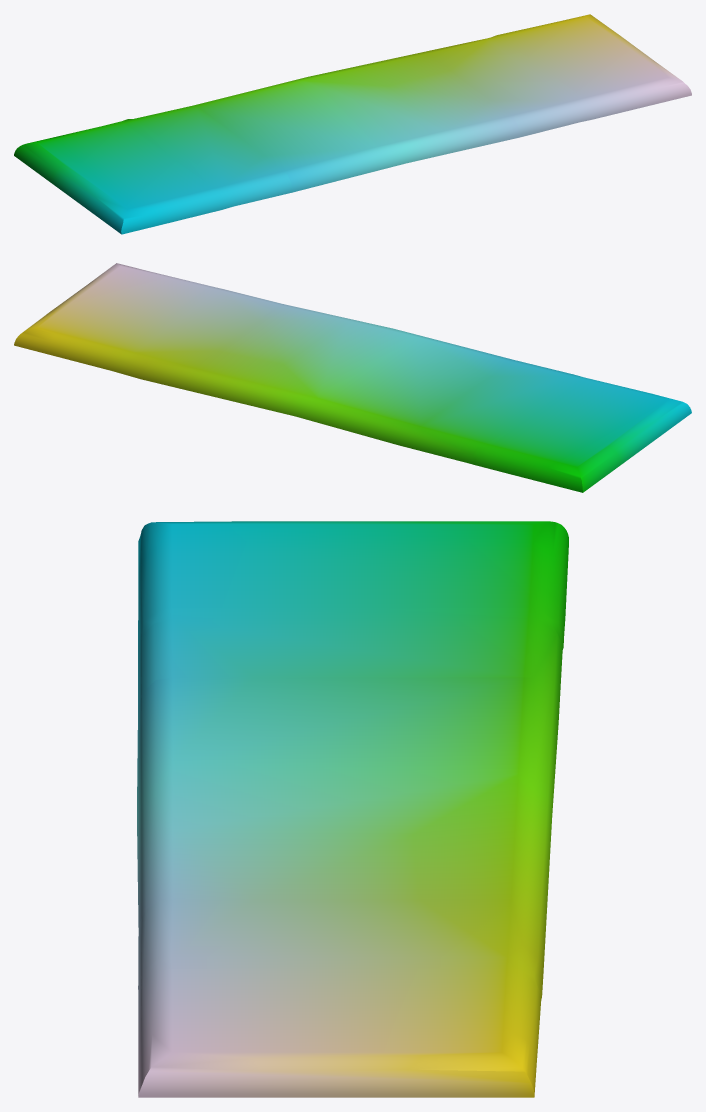
The model's file is SM_ROAD_19_5__1_19_buffer.FBX.
3 views of the same model, one above another, from view 1: azimuth 30°, elevation 25°; view 2: azimuth 150°, elevation 25°; view 3: azimuth 270°, elevation 25° (orthographic). The views are drawn at different scales.
Visible parts, largest first — view 1: SM_ROAD_19_5__1_19_buffer; view 2: SM_ROAD_19_5__1_19_buffer; view 3: SM_ROAD_19_5__1_19_buffer.
Part boxes in pixels (box(x1,y1,x2,y2)): SM_ROAD_19_5__1_19_buffer: box(14, 14, 691, 234); SM_ROAD_19_5__1_19_buffer: box(14, 263, 691, 492); SM_ROAD_19_5__1_19_buffer: box(137, 521, 568, 1097).
Size of the model in its own units: 2004 by 658 by 60.17.
